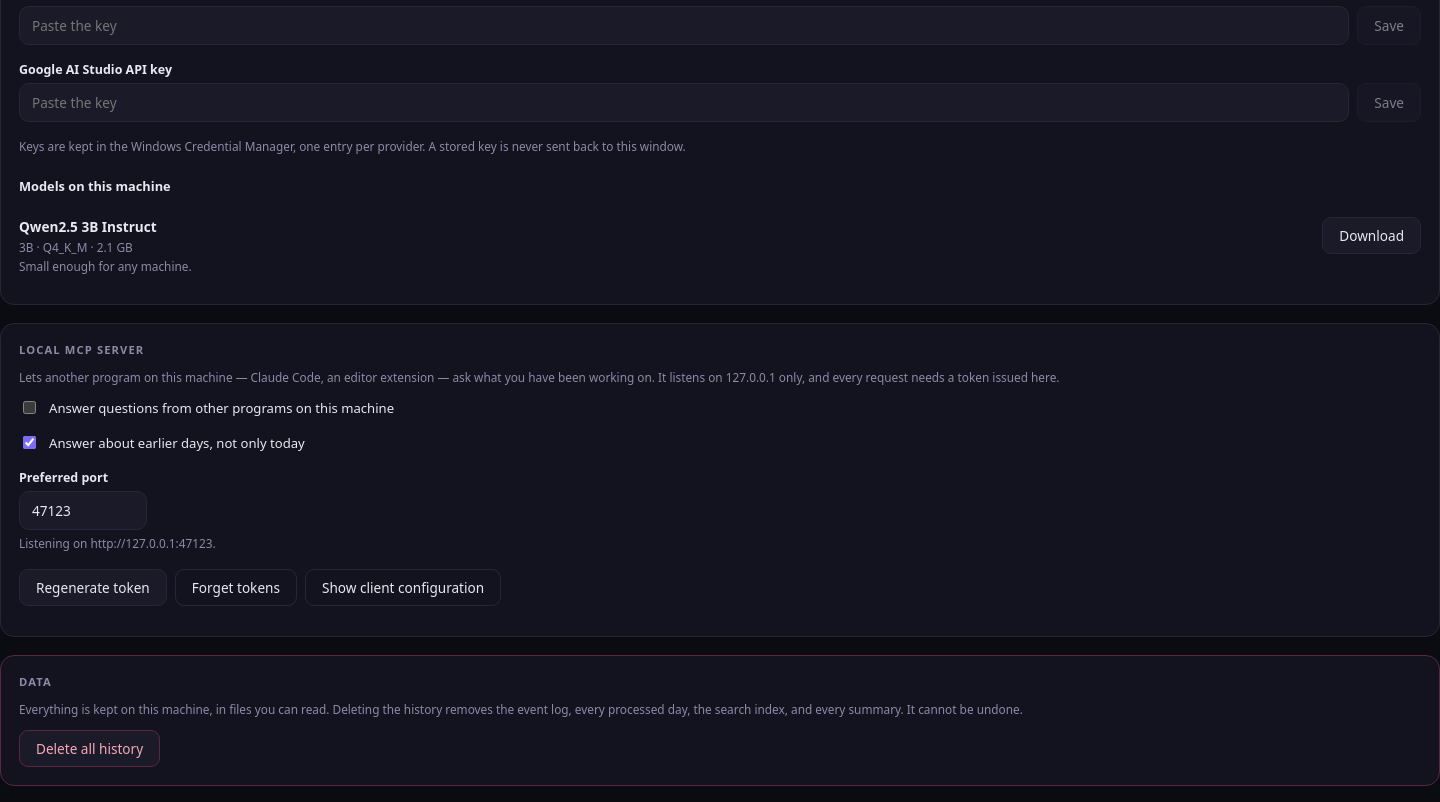
Test: Settings — the MCP server › regenerates a token and warns that the old one is dead
(page scrolled)
Click the button "Regenerate token" at (93, 587), box [19,569,167,606]
(page scrolled)
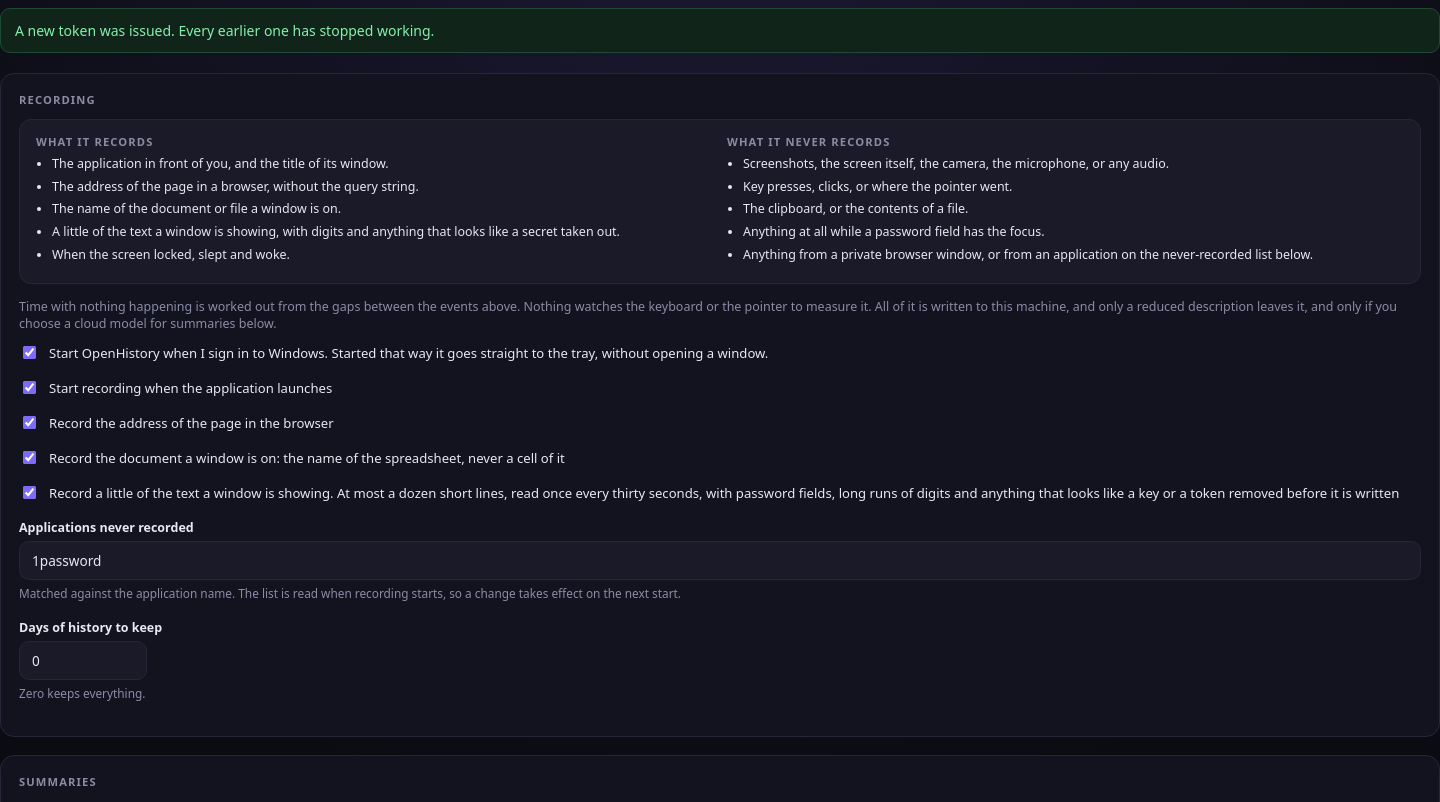
Expected: the text "Every earlier one has stopped working" is shown, [15,21,434,40]
